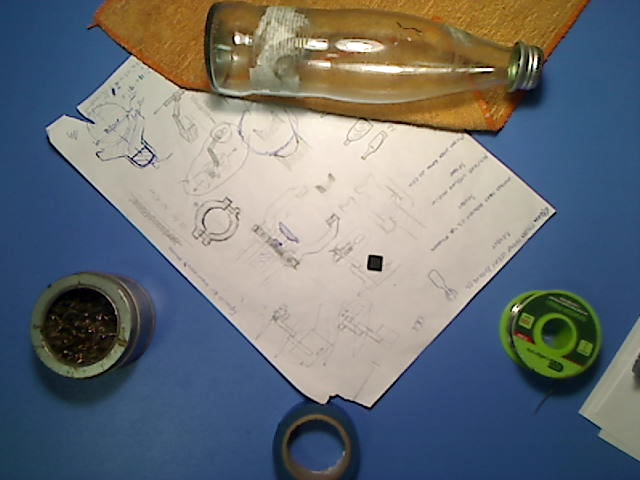bottle: (206, 2, 544, 105)
